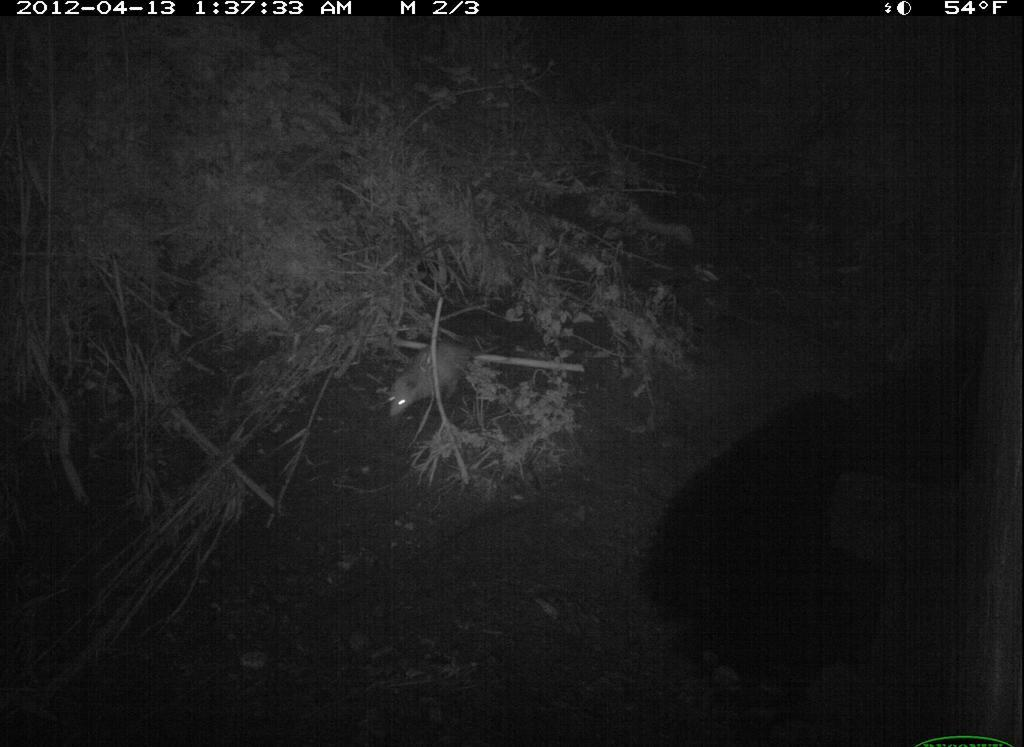opossum: (351, 306, 559, 455)
